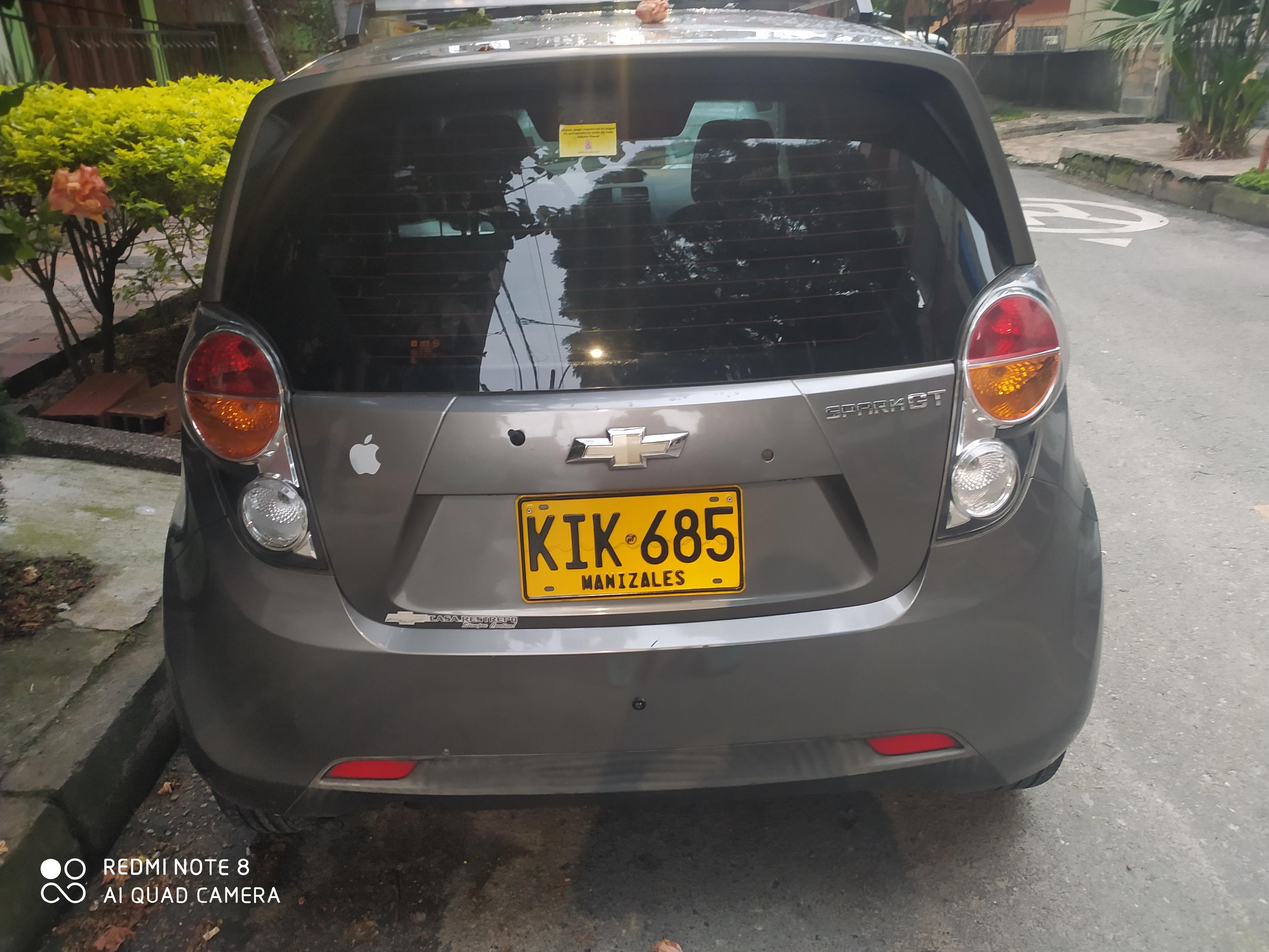placa: (508, 486, 752, 605)
